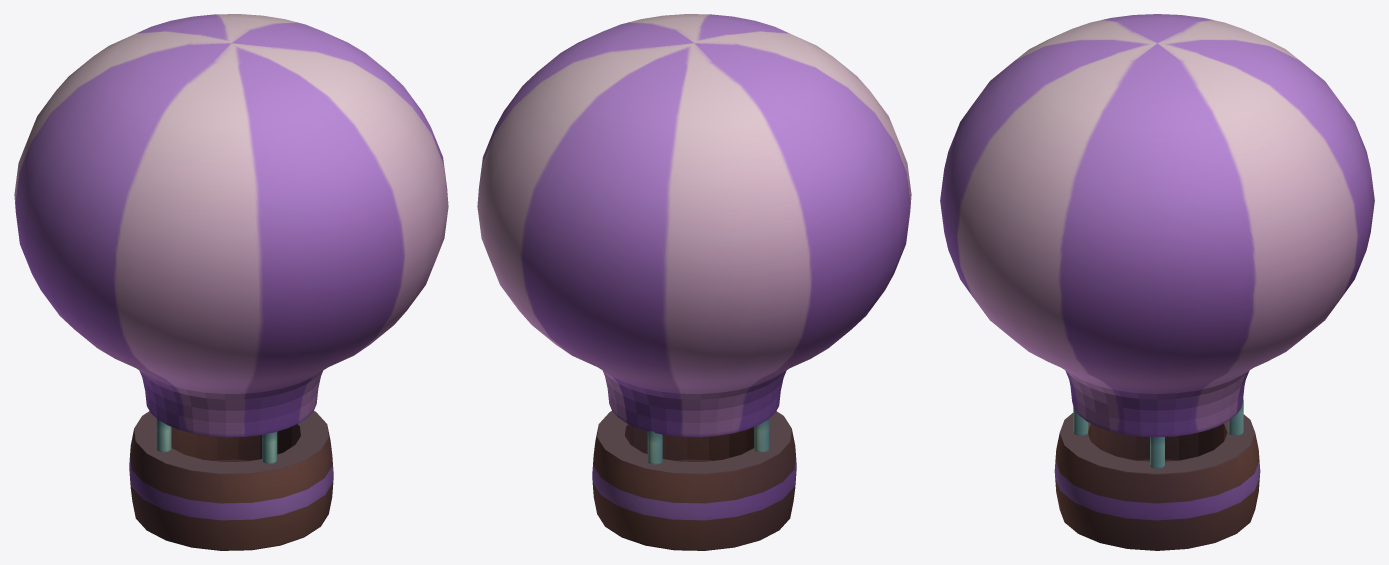
File: 宝宝巴士-主框架-推送地图-游园会-气球2.FBX
The picture shows the model from 3 angles, left to right: view 1: azimuth 30°, elevation 25°; view 2: azimuth 150°, elevation 25°; view 3: azimuth 270°, elevation 25°; orthographic projection.
Visible parts, largest first — view 1: 宝宝巴士-主框架-推送地图-游园会-气球2; view 2: 宝宝巴士-主框架-推送地图-游园会-气球2; view 3: 宝宝巴士-主框架-推送地图-游园会-气球2.
Part boxes in pixels (x1,y1,x2,y2): 宝宝巴士-主框架-推送地图-游园会-气球2: (14,14,448,550); 宝宝巴士-主框架-推送地图-游园会-气球2: (477,14,911,550); 宝宝巴士-主框架-推送地图-游园会-气球2: (940,14,1374,550).
Bounding box in the file's own units: 254 × 301 × 254.
